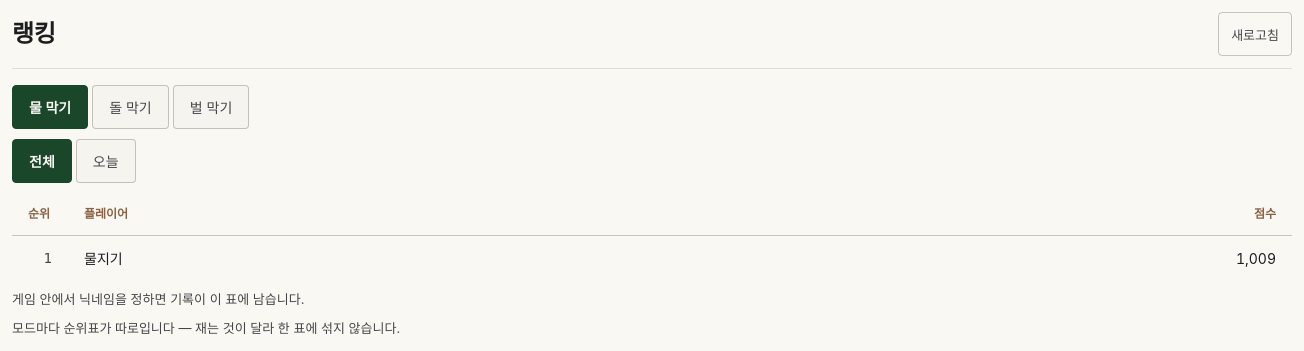
Test: 게임 상세 랭킹 › 모드를 나눈 게임 › 모드를 바꾸면 그 모드만 다시 읽는다 — 요청 수는 늘지 않는다
This screenshot has width=1304, height=351.
Check: the text "물지기" is shown, box 84,250 -> 123,267
Click the tab "돌 막기": (130, 107) 92,85 -> 169,129
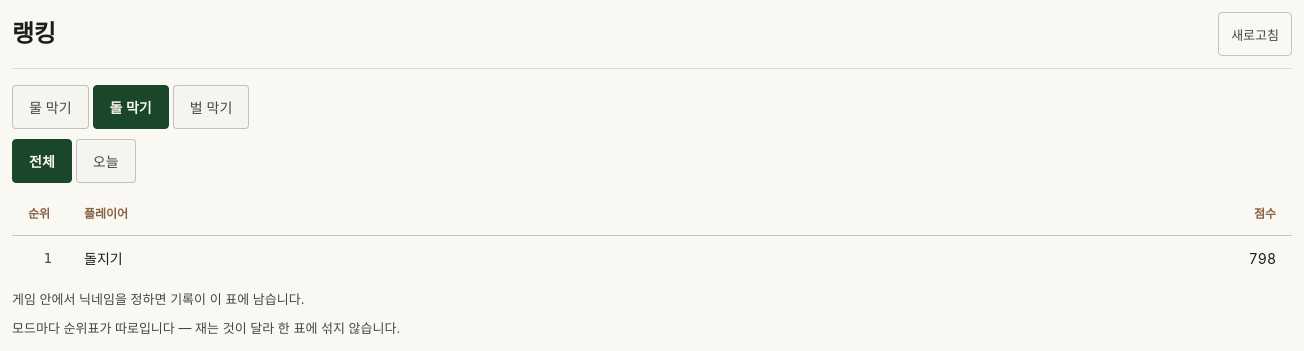
Check: the text "돌지기" is shown, box 84,250 -> 123,267
Check: the text "물지기" is gone
